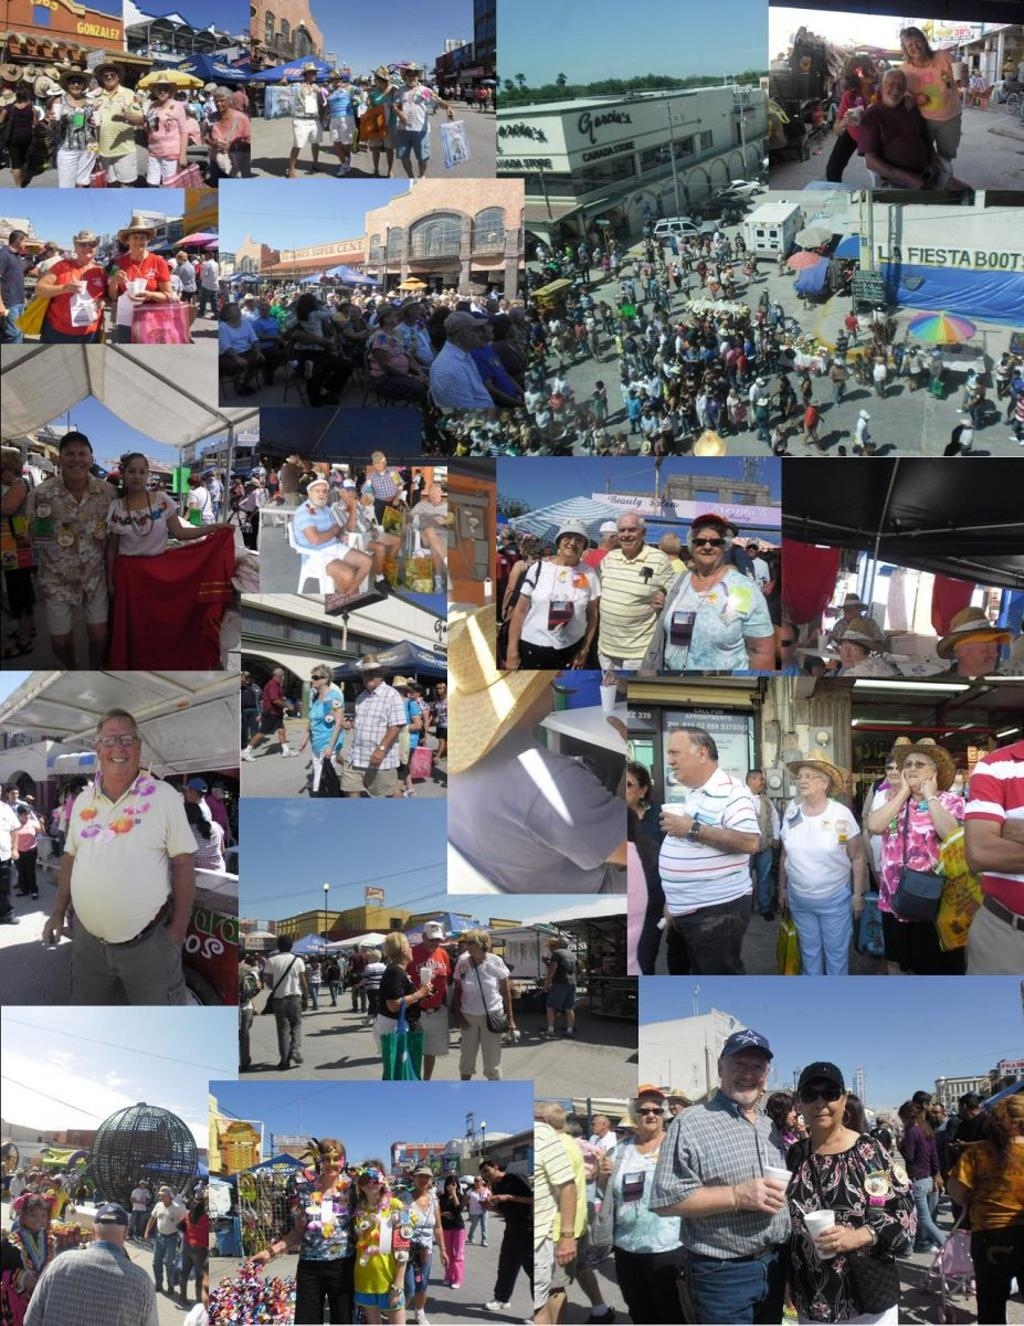face: (724, 1054, 765, 1102), (801, 1076, 841, 1126), (101, 718, 137, 773), (666, 732, 697, 780), (692, 525, 723, 565), (633, 1094, 663, 1129), (904, 751, 931, 785), (963, 637, 988, 673), (63, 443, 89, 478), (618, 772, 641, 806), (126, 456, 147, 489), (617, 518, 641, 549), (798, 765, 822, 795), (882, 75, 904, 106), (560, 532, 583, 557), (841, 639, 862, 666), (320, 1151, 341, 1176), (904, 32, 924, 57), (361, 1168, 380, 1193), (781, 624, 794, 658), (28, 1205, 44, 1229), (128, 232, 146, 253), (781, 1100, 796, 1125), (465, 324, 482, 345), (887, 760, 902, 783), (77, 239, 96, 257), (312, 483, 327, 504), (400, 937, 413, 961), (669, 1095, 684, 1115), (361, 667, 377, 687), (102, 68, 117, 87), (467, 935, 480, 956), (68, 77, 83, 96), (843, 606, 858, 622), (425, 933, 438, 952), (156, 84, 169, 101), (430, 484, 441, 503), (417, 1173, 430, 1189), (481, 1165, 494, 1181), (186, 785, 198, 802), (483, 320, 495, 338), (752, 772, 763, 790), (342, 488, 355, 503), (406, 72, 418, 86), (590, 1119, 603, 1134), (215, 96, 227, 110), (387, 311, 399, 325), (408, 304, 419, 318), (312, 670, 321, 687), (933, 1103, 942, 1118), (376, 74, 387, 87), (447, 1178, 456, 1194), (229, 305, 240, 318), (159, 1191, 169, 1204), (549, 939, 558, 952), (350, 307, 358, 319), (10, 789, 18, 802), (308, 70, 317, 81), (373, 458, 383, 469), (925, 1096, 931, 1112), (748, 545, 756, 557), (489, 300, 498, 312), (216, 786, 224, 799), (20, 235, 27, 250), (21, 809, 29, 821), (332, 76, 341, 86), (261, 304, 268, 316), (45, 247, 53, 257), (437, 685, 444, 695), (410, 687, 417, 697), (475, 1177, 482, 1187), (246, 298, 253, 309), (279, 295, 285, 305), (276, 672, 283, 683), (242, 672, 249, 683), (290, 454, 297, 464), (175, 253, 181, 263), (189, 480, 196, 488), (502, 300, 508, 309), (779, 378, 783, 388), (303, 462, 309, 470), (139, 1180, 144, 1187), (644, 408, 650, 415), (52, 1180, 56, 1188), (254, 950, 259, 956), (665, 387, 670, 394), (657, 411, 663, 417), (336, 952, 340, 959), (557, 371, 560, 381), (596, 384, 600, 390), (757, 379, 761, 387), (839, 329, 843, 335), (536, 404, 540, 411), (708, 271, 712, 276), (205, 253, 209, 259), (911, 352, 914, 358), (801, 374, 804, 382), (640, 389, 643, 393), (630, 392, 633, 397)
